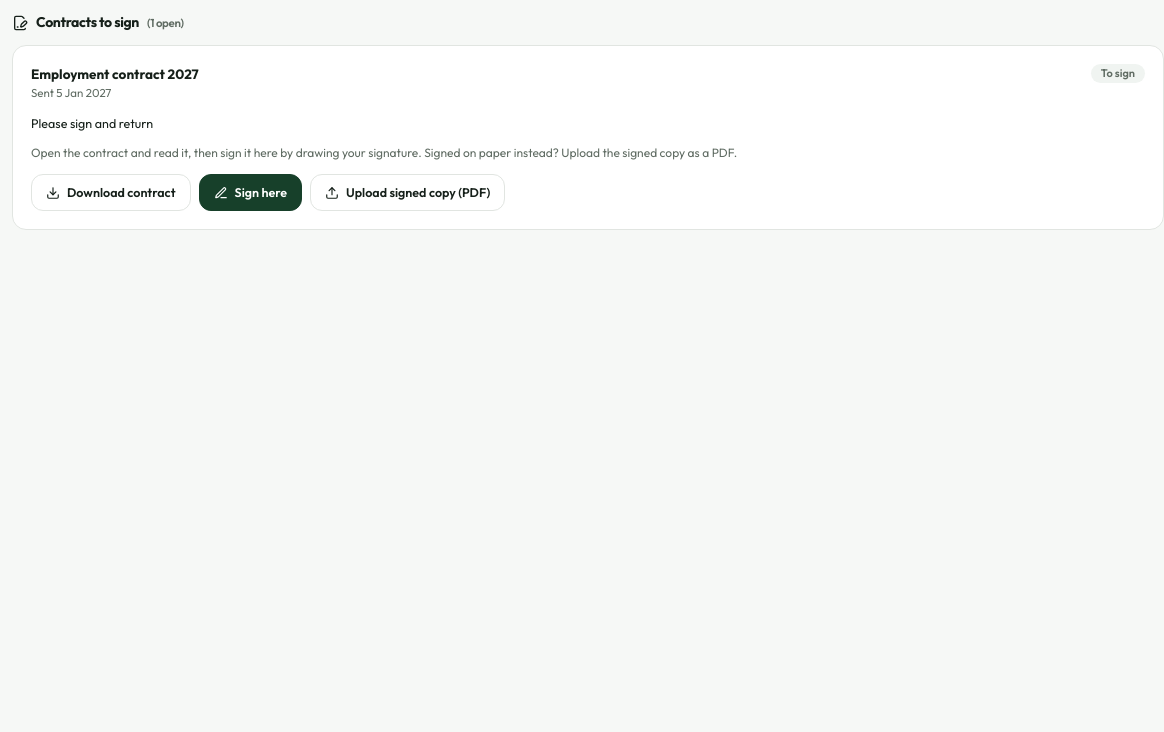
it: ContractsToSign › no saved signature: the pad to draw one opens
This screenshot has width=1164, height=732.
What coordinates should you click on to do the following:
click the button "Sign here"
I would click on:
 (250, 193)
Its box is [198, 174, 302, 211].
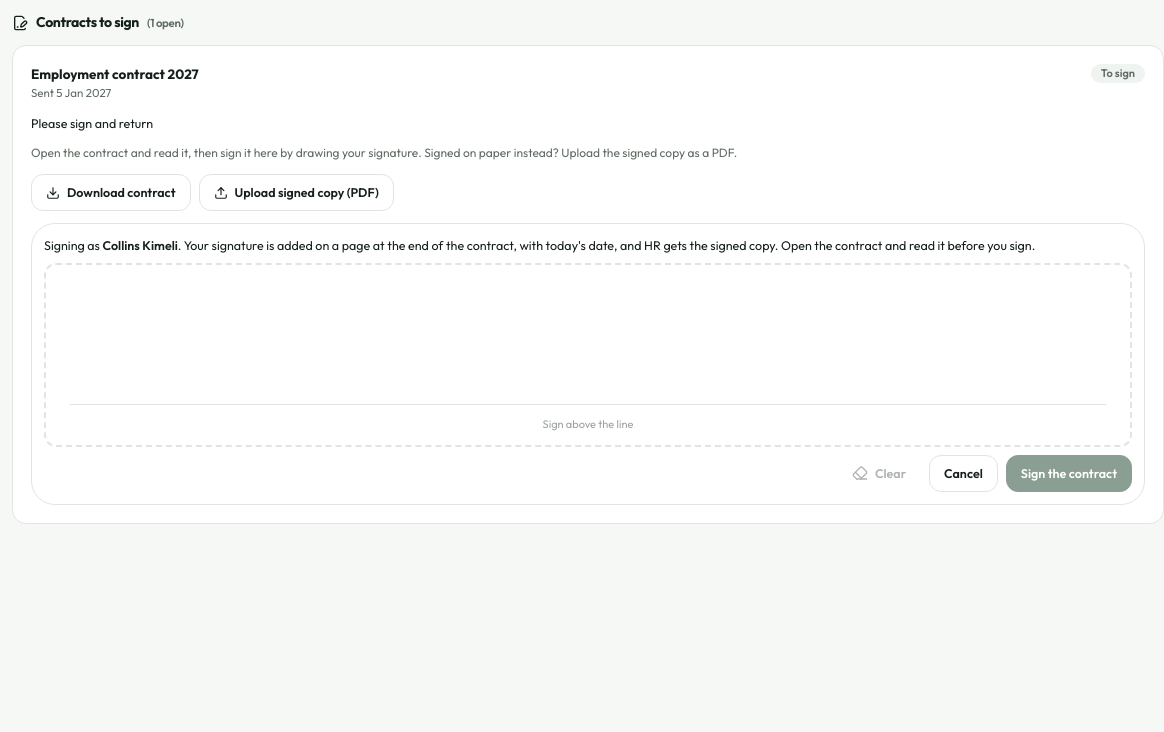
Expected: the drawing named "Signature pad" is shown, [46, 265, 1130, 445]
Expected: the button "Sign the contract" is shown, [1006, 455, 1132, 492]
